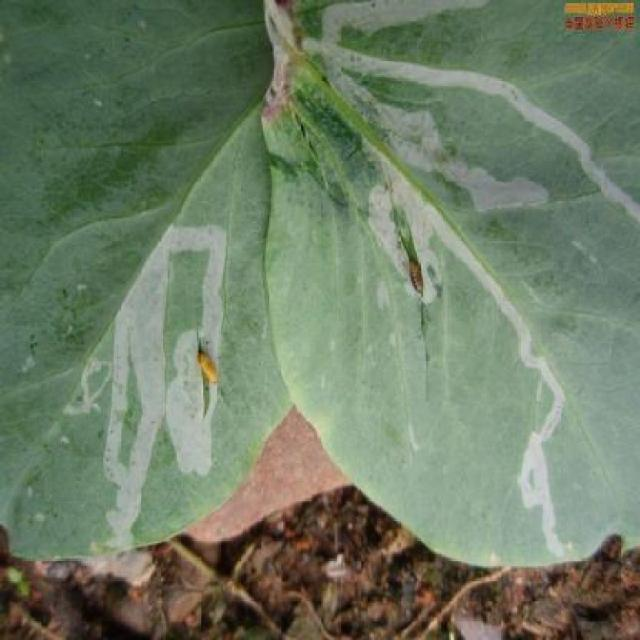whorl-maggot: (193, 340, 227, 398), (404, 248, 430, 302)
